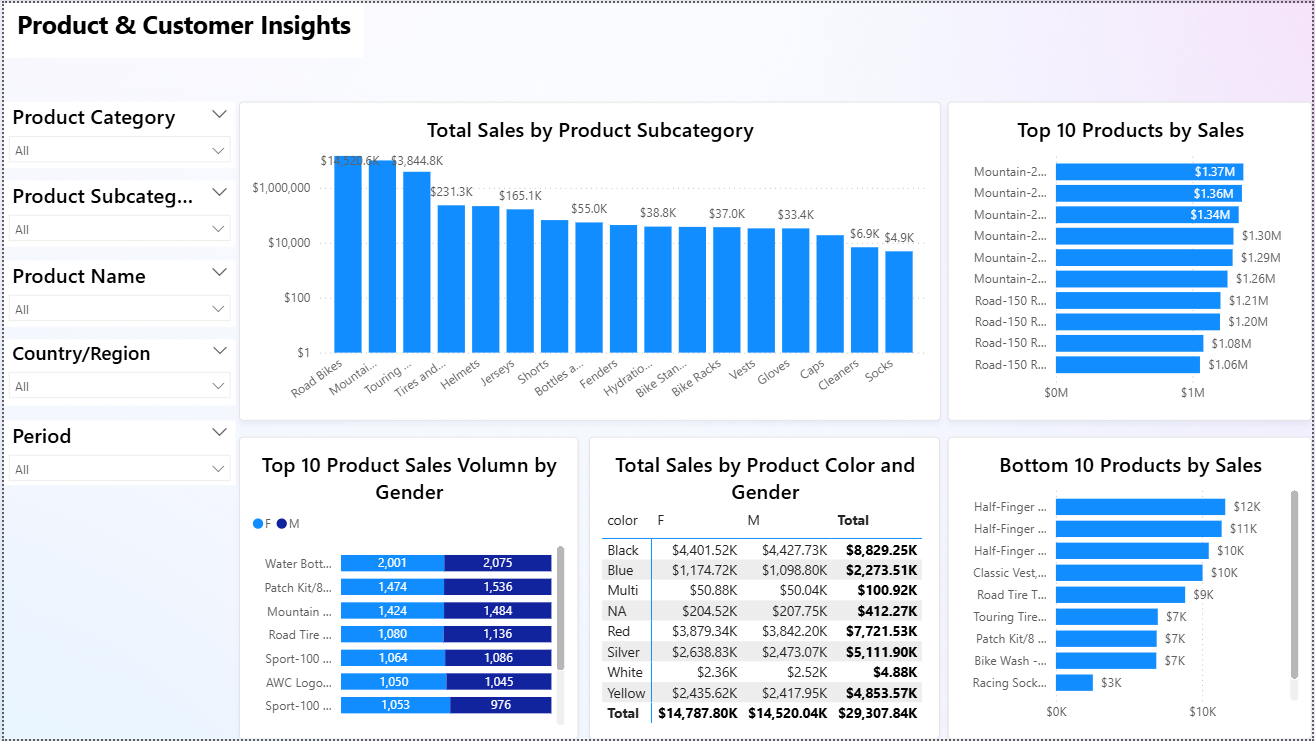

The page's visual inventory and layout, read from the dashboard file:
{"tool":"powerbi","page":{"name":"Product & Customer Insights","canvas":[1280,720],"ordinal":1},"visuals":[{"type":"clusteredBarChart","title":"Top 10 Products by Sales","fields":{"Y":["public master_sales.Total Sales"],"Category":["public master_sales.productname"]},"box":[923.4,96.7,356.4,311.6],"z":0},{"type":"tableEx","title":"Top 10 Customers by Sales","fields":{"Values":["public master_sales.customer_name","public master_sales.Total Sales"]},"box":[229.4,424.2,268.4,295.8],"z":1000},{"type":"slicer","title":"Category","fields":{"Values":["public master_sales.category"]},"box":[0,96.7,226.5,64.9],"z":2000},{"type":"slicer","title":"Category","fields":{"Values":["public master_sales.productname"]},"box":[0,252.5,226.5,64.9],"z":3000},{"type":"slicer","title":"Category","fields":{"Values":["public master_sales.subcategory"]},"box":[0,173.1,226.5,64.9],"z":4000},{"type":"slicer","title":"Category","fields":{"Values":["public master_sales.orderdate.Variation.Date Hierarchy.Year","public master_sales.orderdate.Variation.Date Hierarchy.Quarter","public master_sales.orderdate.Variation.Date Hierarchy.Month","public master_sales.orderdate.Variation.Date Hierarchy.Day"]},"box":[0,408.3,226.5,63.5],"z":5000},{"type":"clusteredBarChart","title":"Bottom 10 Products by Sales","fields":{"Y":["public master_sales.Total Sales"],"Category":["public master_sales.productname"]},"box":[923.4,424.2,356.4,295.8],"z":6000},{"type":"columnChart","title":"Total Sales ($) by Product Subcategory","fields":{"Category":["public master_sales.subcategory"],"Y":["public master_sales.Total Sales"]},"box":[229.9,96.6,686,311.8],"z":7000},{"type":"slicer","title":"Category","fields":{"Values":["public master_sales.country","public master_sales.region"]},"box":[0,328.9,226.5,64.9],"z":8000},{"type":"pivotTable","title":"Total Sales by Product Color and Gender","fields":{"Rows":["public master_sales.color"],"Values":["public master_sales.Total Sales"],"Columns":["public master_sales.gender"]},"box":[503.5,424.2,412.6,295.8],"z":9000},{"type":"textbox","box":[0,0,352,53.4],"z":10000}]}

Visuals, with their boxes in screenshot pixels (x1, y1, x2, y2), scaled from the page's 1280x720 canvas onto the 1315x741 screenshot:
"Top 10 Products by Sales" clusteredBarChart: <bbox>949, 100, 1314, 420</bbox>
"Top 10 Customers by Sales" tableEx: <bbox>236, 437, 511, 740</bbox>
"Category" slicer: <bbox>0, 100, 233, 166</bbox>
"Category" slicer: <bbox>0, 260, 233, 327</bbox>
"Category" slicer: <bbox>0, 178, 233, 245</bbox>
"Category" slicer: <bbox>0, 420, 233, 486</bbox>
"Bottom 10 Products by Sales" clusteredBarChart: <bbox>949, 437, 1314, 740</bbox>
"Total Sales ($) by Product Subcategory" columnChart: <bbox>236, 99, 941, 420</bbox>
"Category" slicer: <bbox>0, 338, 233, 405</bbox>
"Total Sales by Product Color and Gender" pivotTable: <bbox>517, 437, 941, 740</bbox>
textbox: <bbox>0, 0, 362, 55</bbox>
